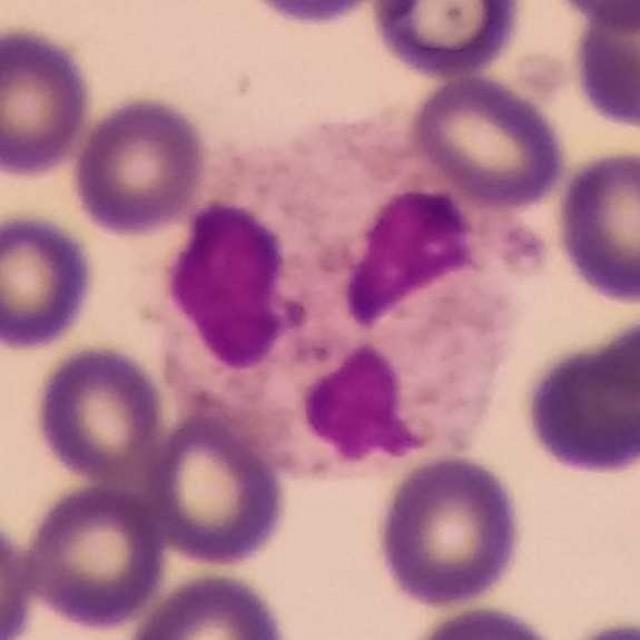RBC: (162, 105, 514, 488), (371, 450, 528, 611), (138, 409, 292, 570), (15, 480, 170, 632), (404, 70, 570, 210), (515, 308, 640, 481), (69, 91, 211, 238), (28, 340, 170, 486), (0, 22, 96, 180), (0, 207, 100, 354), (552, 143, 640, 310), (366, 0, 532, 81), (124, 569, 292, 640), (567, 0, 640, 136), (397, 600, 570, 640), (0, 511, 41, 640), (230, 0, 397, 29), (541, 0, 640, 32), (565, 615, 639, 640)
